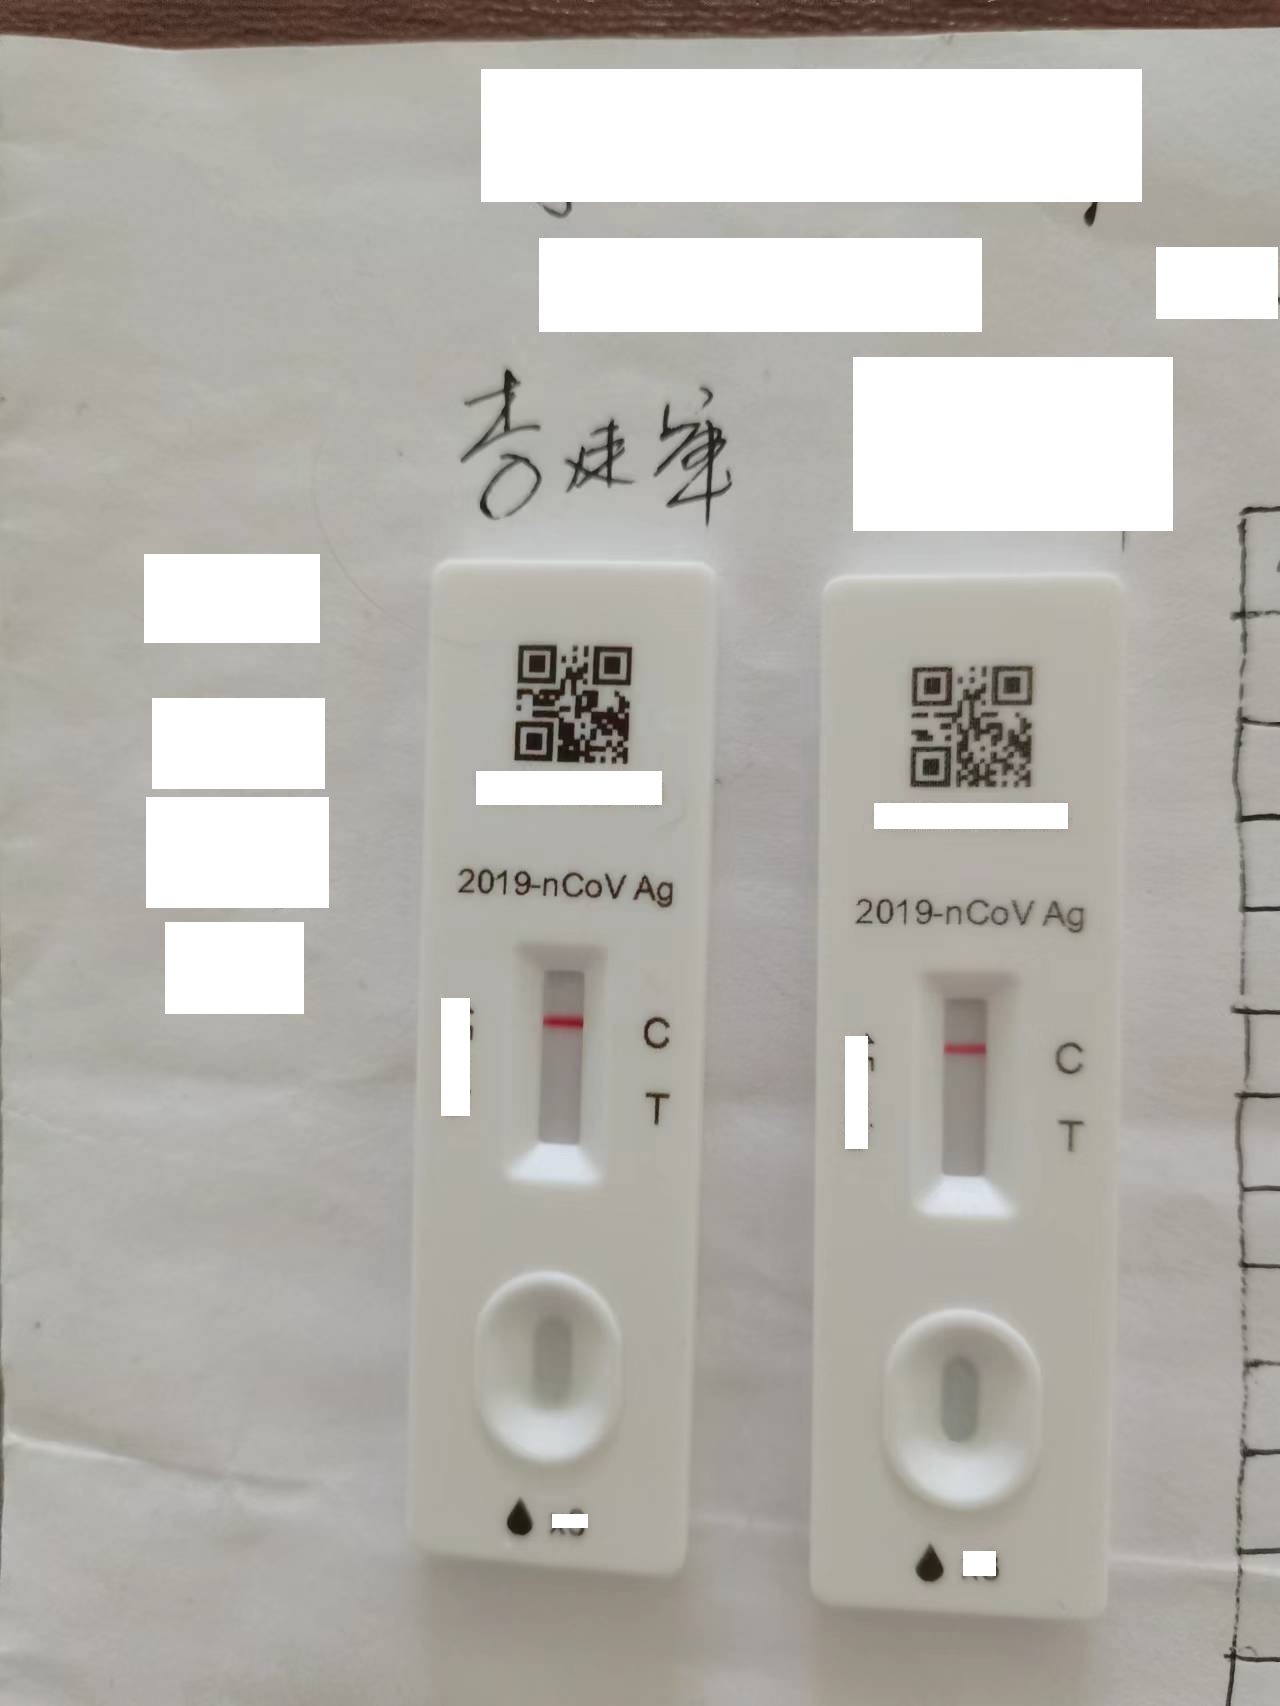negative: (512, 942, 602, 1179), (932, 969, 1016, 1213)
